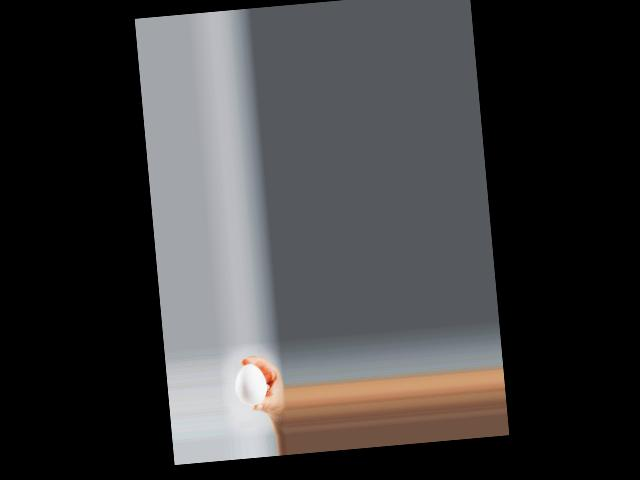egg: (234, 362, 267, 406)
